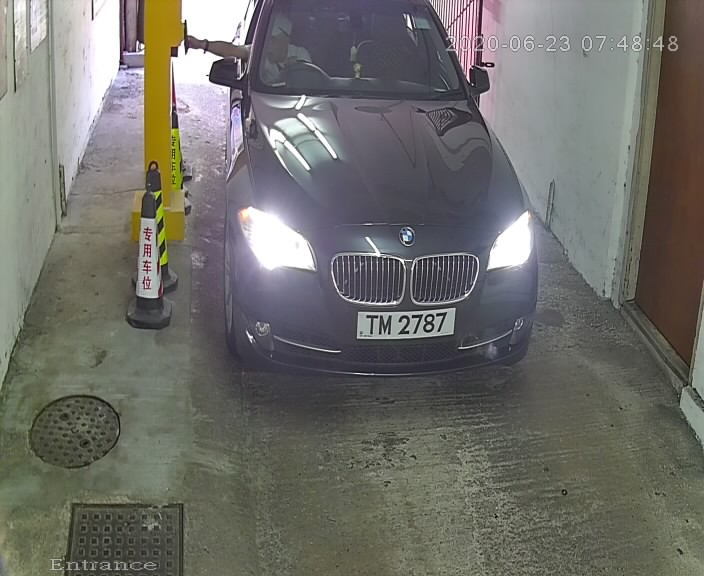privatecar: (188, 2, 566, 410)
